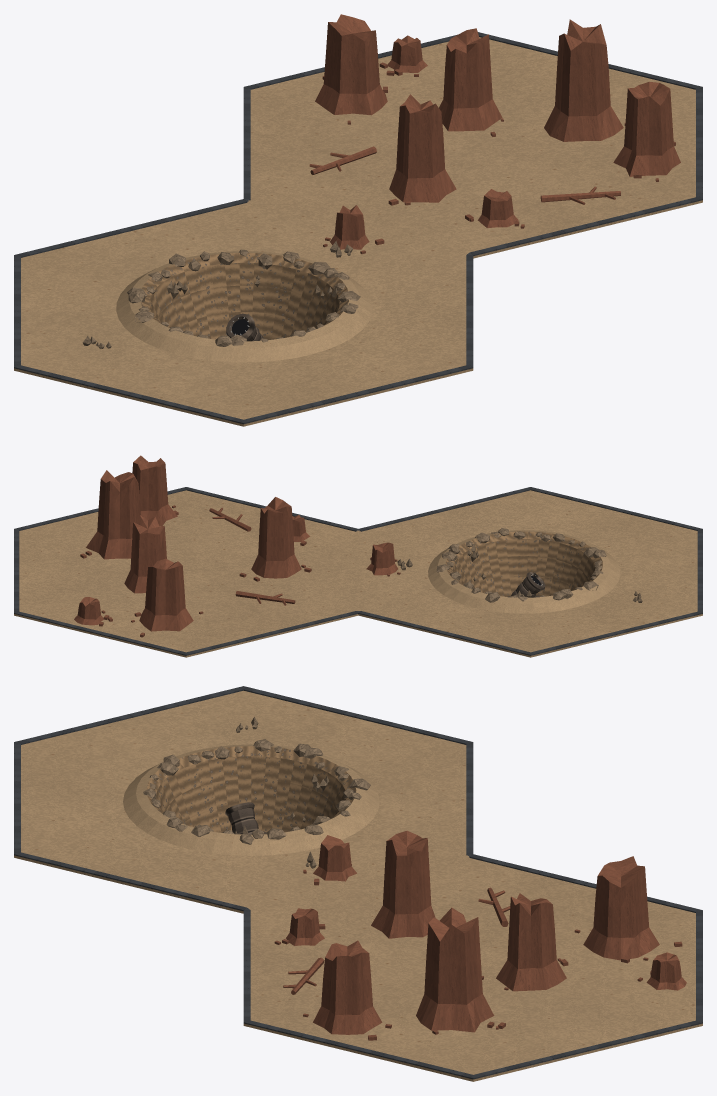
File: WasteHex_Pair.glb
3 views of the same model, one above another, from view 1: azimuth 30°, elevation 25°; view 2: azimuth 150°, elevation 25°; view 3: azimuth 270°, elevation 25° (orthographic). The views are drawn at different scales.
Parts seen in each view (by area): view 1: WasteHex_Pair_Ground, WasteHex_Pair_Prop_Petrified, WasteHex_Pair_Prop_PitWall, WasteHex_Pair_GroundTrim, WasteHex_Pair_Prop_PitRim, WasteHex_Pair_Prop_Rock, WasteHex_Pair_Prop_Branch, WasteHex_Pair_Prop_Salt, WasteHex_Pair_Worm; view 2: WasteHex_Pair_Ground, WasteHex_Pair_Prop_Petrified, WasteHex_Pair_Prop_PitWall, WasteHex_Pair_GroundTrim, WasteHex_Pair_Prop_PitRim, WasteHex_Pair_Prop_Rock, WasteHex_Pair_Prop_Branch, WasteHex_Pair_Worm, WasteHex_Pair_Prop_Salt; view 3: WasteHex_Pair_Ground, WasteHex_Pair_Prop_Petrified, WasteHex_Pair_Prop_PitWall, WasteHex_Pair_GroundTrim, WasteHex_Pair_Prop_PitRim, WasteHex_Pair_Prop_Rock, WasteHex_Pair_Prop_Branch, WasteHex_Pair_Worm.
Boxes of the visible parts, box(x1,y1,x2,y2) form: WasteHex_Pair_Ground: box(14, 37, 702, 426); WasteHex_Pair_Prop_Petrified: box(315, 14, 680, 253); WasteHex_Pair_Prop_PitWall: box(140, 253, 348, 339); WasteHex_Pair_GroundTrim: box(14, 32, 702, 424); WasteHex_Pair_Prop_PitRim: box(116, 251, 372, 362); WasteHex_Pair_Prop_Rock: box(127, 249, 360, 346); WasteHex_Pair_Prop_Branch: box(309, 146, 620, 204); WasteHex_Pair_Prop_Salt: box(82, 241, 352, 348); WasteHex_Pair_Worm: box(226, 313, 263, 341); WasteHex_Pair_Ground: box(14, 490, 702, 657); WasteHex_Pair_Prop_Petrified: box(74, 455, 400, 637); WasteHex_Pair_Prop_PitWall: box(445, 531, 602, 596); WasteHex_Pair_GroundTrim: box(14, 487, 702, 655); WasteHex_Pair_Prop_PitRim: box(428, 530, 620, 613); WasteHex_Pair_Prop_Rock: box(436, 528, 606, 602); WasteHex_Pair_Prop_Branch: box(209, 507, 295, 605); WasteHex_Pair_Worm: box(507, 572, 544, 597); WasteHex_Pair_Prop_Salt: box(397, 543, 642, 602); WasteHex_Pair_Ground: box(14, 690, 702, 1081); WasteHex_Pair_Prop_Petrified: box(274, 830, 686, 1040); WasteHex_Pair_Prop_PitWall: box(146, 746, 356, 832); WasteHex_Pair_GroundTrim: box(14, 686, 702, 1079); WasteHex_Pair_Prop_PitRim: box(123, 744, 379, 855); WasteHex_Pair_Prop_Rock: box(143, 739, 370, 844); WasteHex_Pair_Prop_Branch: box(283, 887, 510, 994); WasteHex_Pair_Worm: box(225, 802, 265, 834).
Size of the model in its own units: 21 by 4.35 by 15.59.
11 materials, 11 textured.
